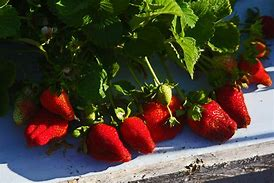Fresa: (185, 95, 238, 146), (81, 120, 135, 168), (216, 82, 253, 129), (120, 115, 158, 160), (37, 82, 76, 122)
